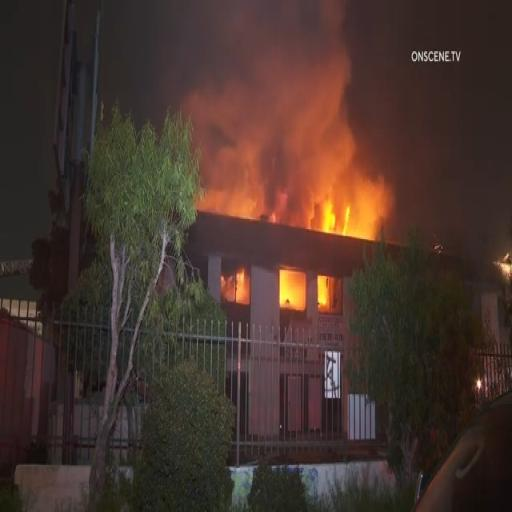fire: (309, 199, 362, 242), (280, 268, 300, 311)
smoke: (225, 0, 362, 196)
